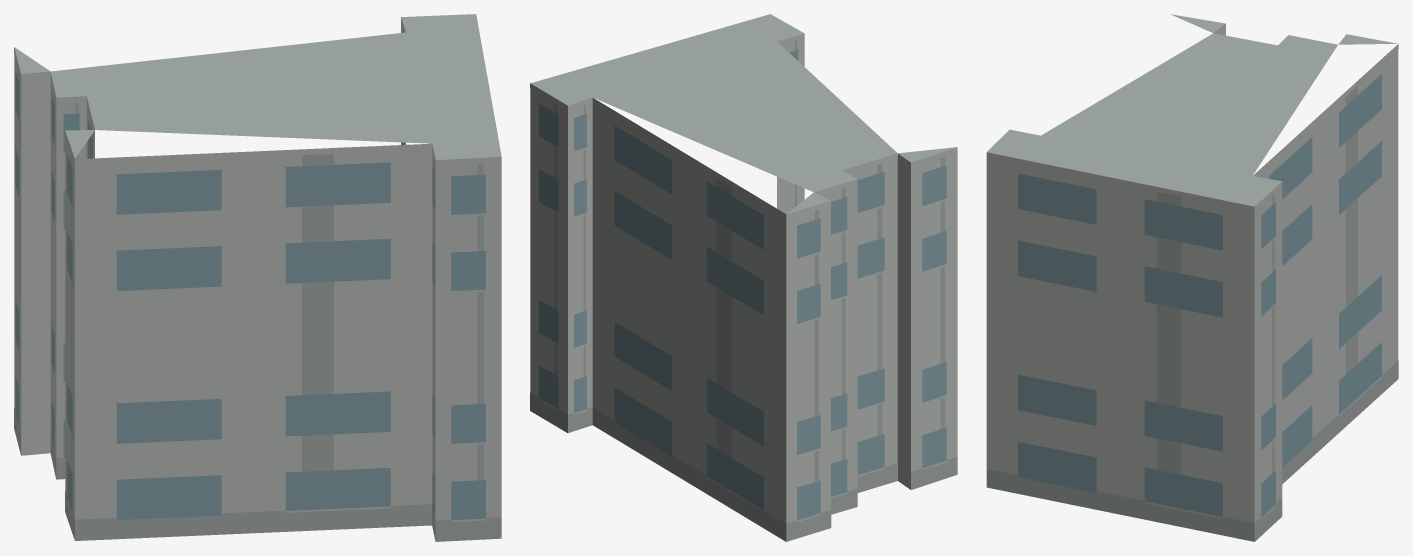
Rendered from survey-upis-32552233.glb.
3 renders of one model, left to right at view 1: azimuth 30°, elevation 25°; view 2: azimuth 150°, elevation 25°; view 3: azimuth 270°, elevation 25°, orthographic. The views are drawn at different scales.
Visible parts, largest first — view 1: survey-upis-32552233.tmp; view 2: survey-upis-32552233.tmp; view 3: survey-upis-32552233.tmp.
Boxes of the visible parts, x1,y1,x2,y2 form: survey-upis-32552233.tmp: (14,14,501,541); survey-upis-32552233.tmp: (530,14,957,541); survey-upis-32552233.tmp: (986,14,1398,541).
Size of the model in its own units: 19.24 by 15.6 by 17.38.
